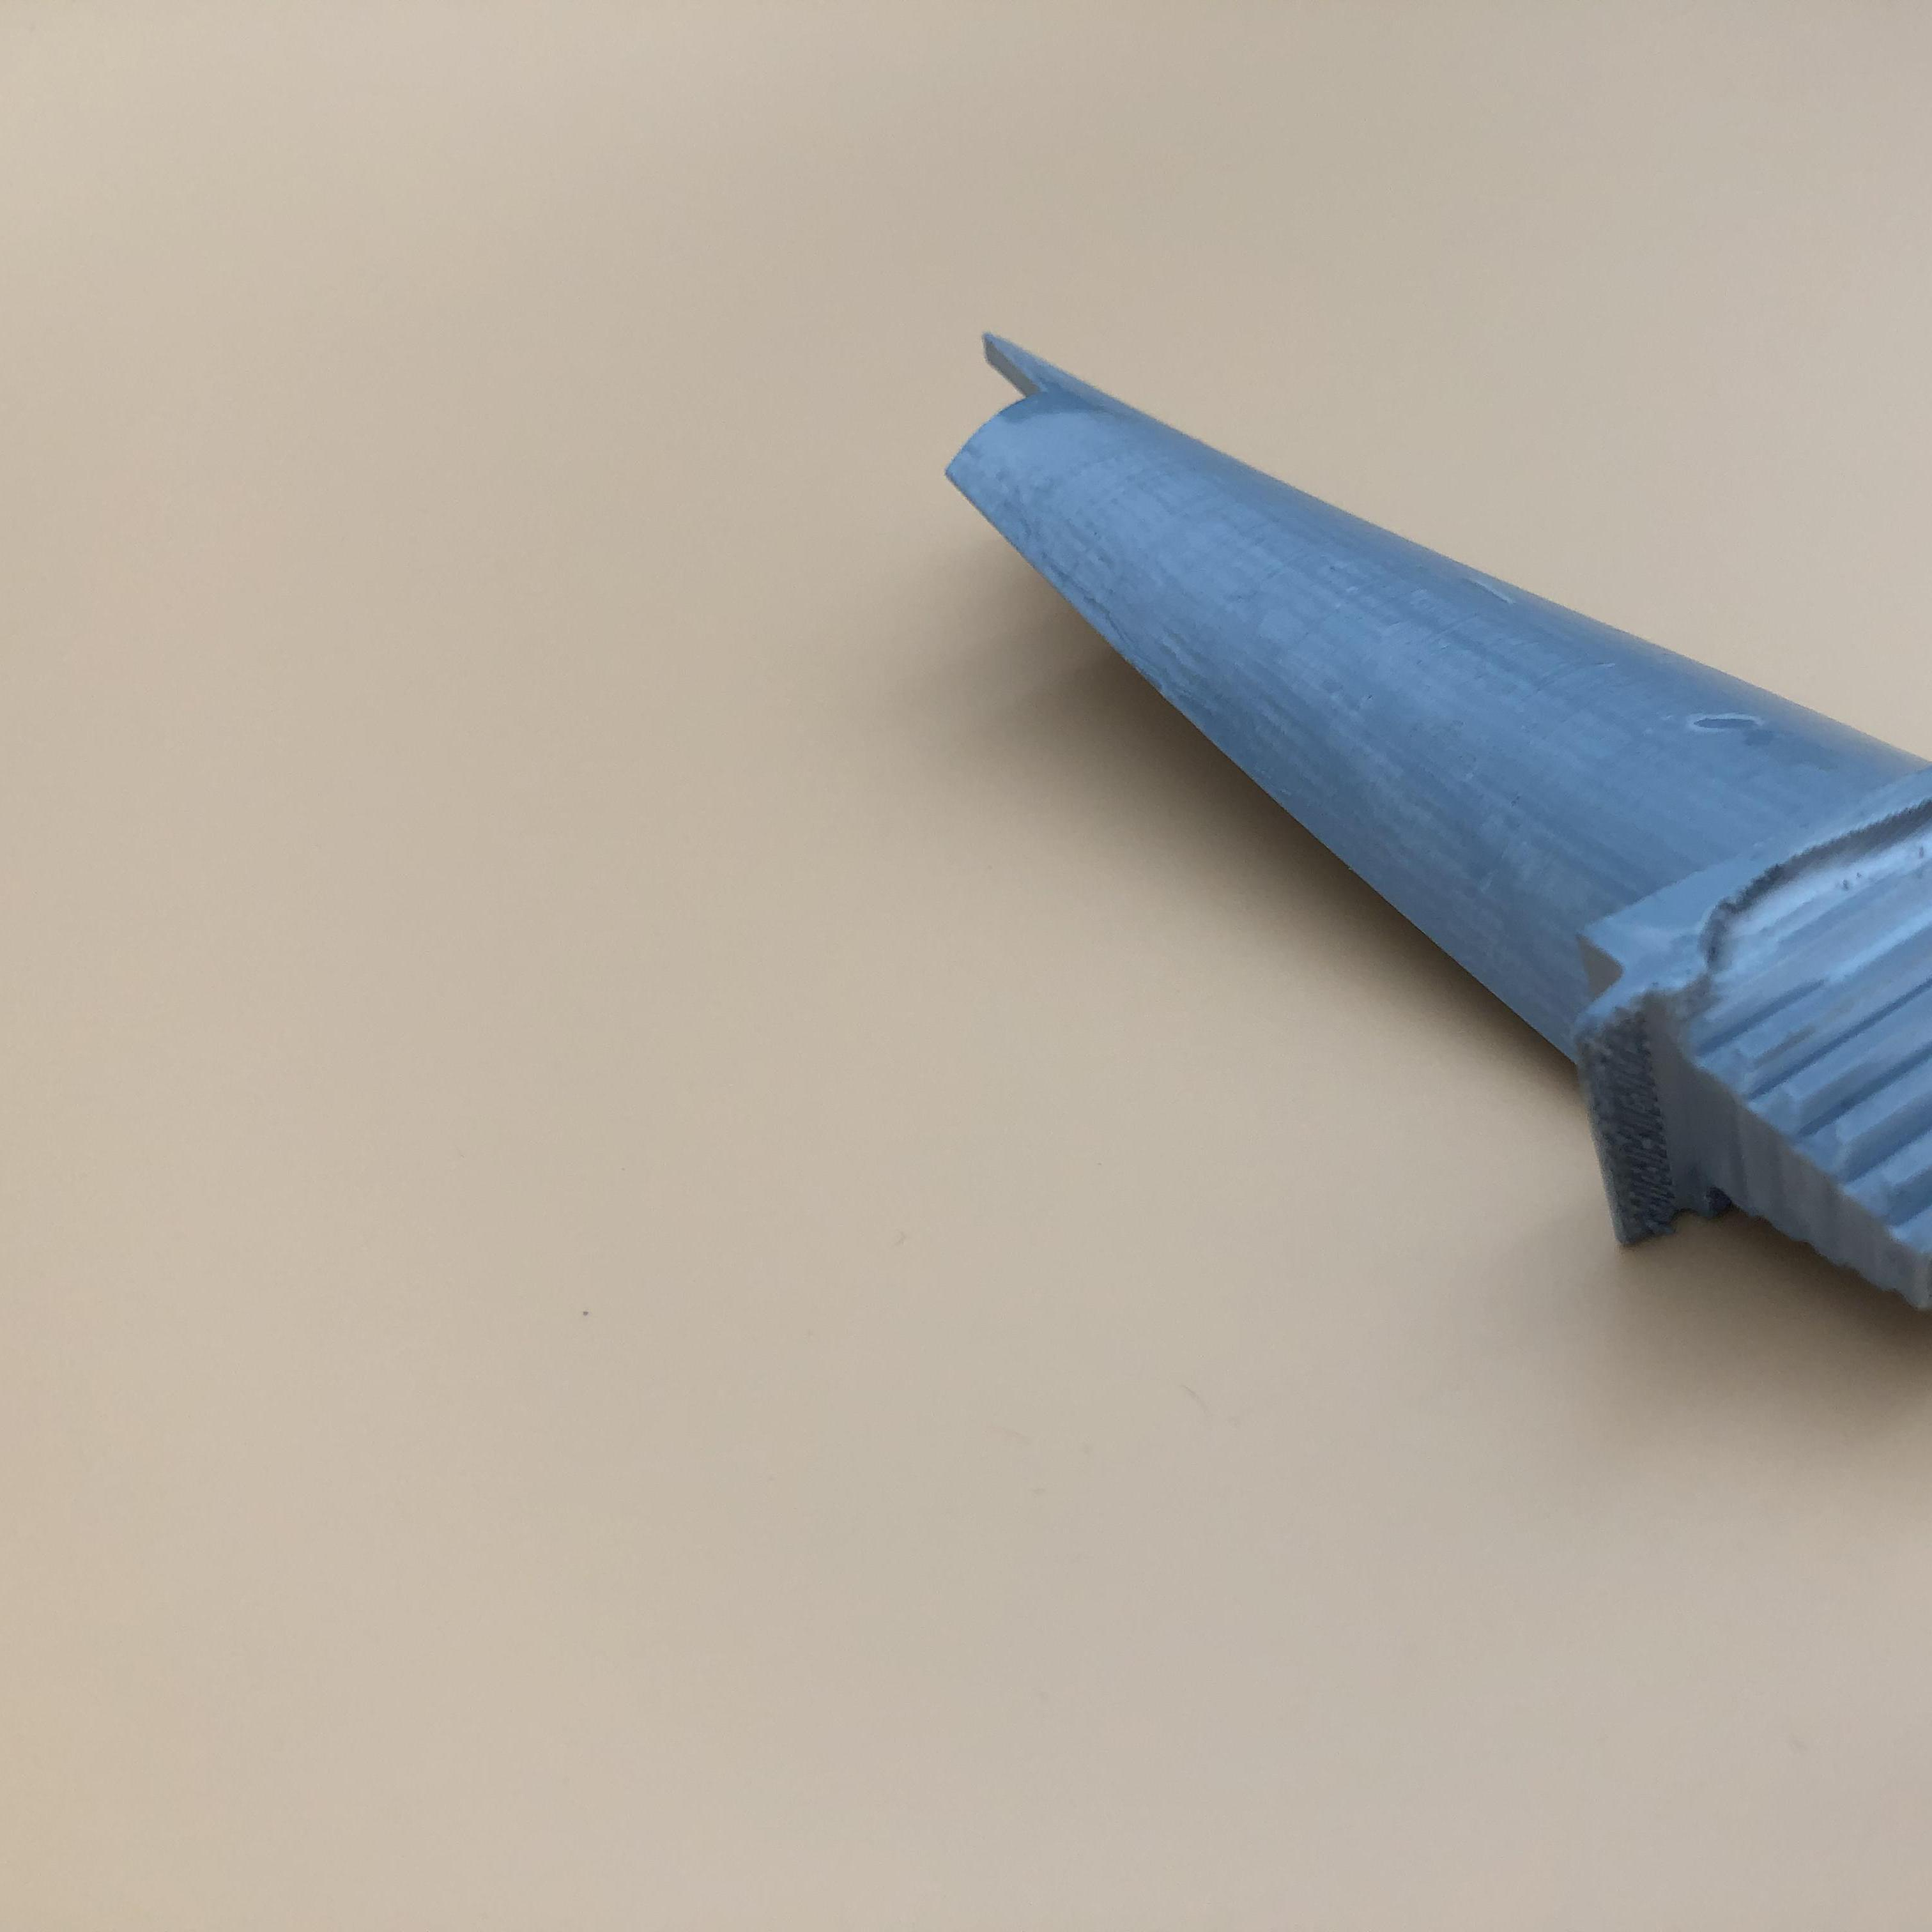fracture: (945, 345, 1054, 488)
